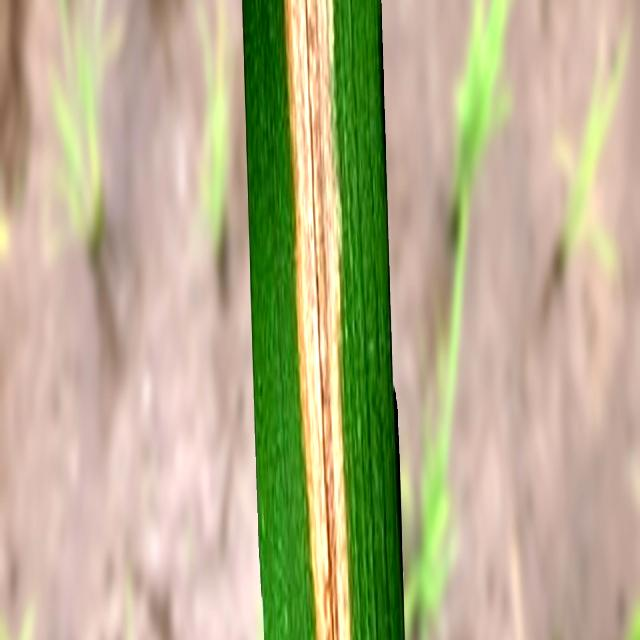BLB: (286, 0, 352, 640)
